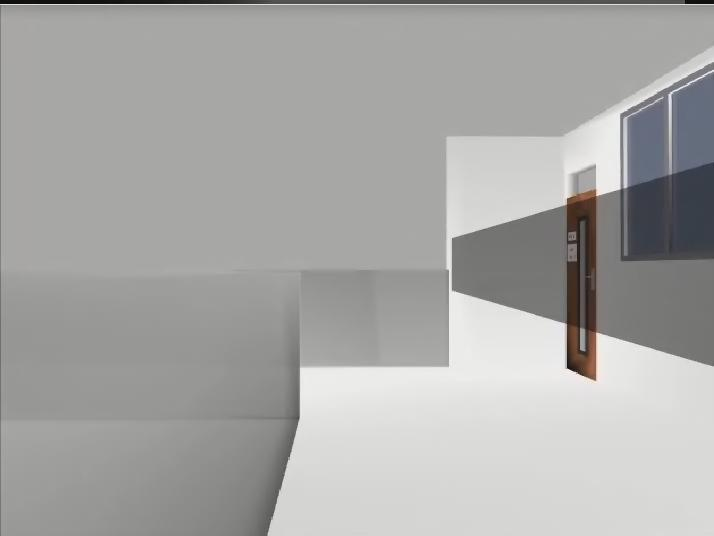door: (566, 190, 596, 382)
